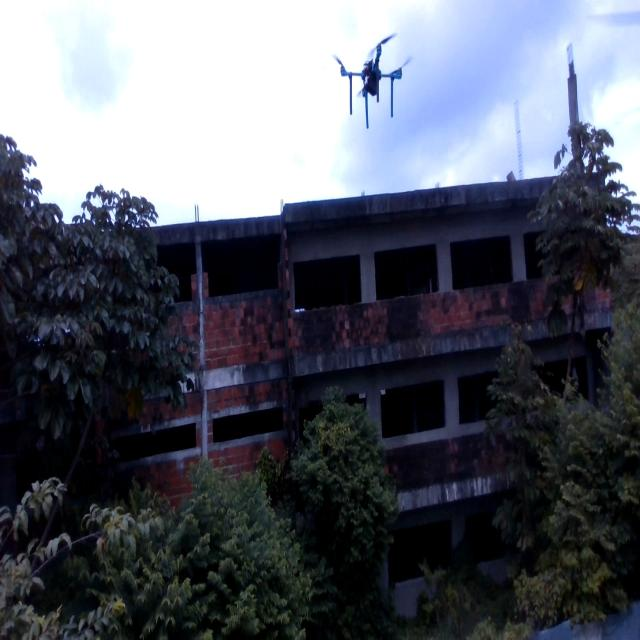-uav-: (323, 21, 419, 129)
